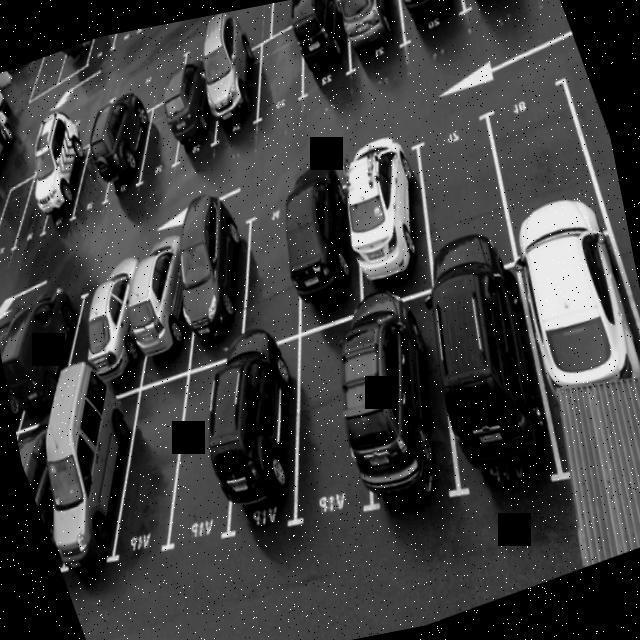car: (400, 261, 585, 504), (318, 278, 498, 522), (493, 219, 640, 471), (7, 362, 168, 578), (189, 334, 341, 550), (328, 144, 451, 307), (263, 161, 382, 319), (107, 220, 218, 378), (162, 210, 276, 355), (10, 396, 90, 568), (0, 274, 99, 406), (68, 252, 162, 376), (278, 0, 371, 109), (84, 96, 177, 204), (192, 41, 282, 148), (153, 62, 237, 166), (23, 129, 102, 234), (327, 0, 424, 83), (384, 0, 482, 56), (0, 295, 42, 425), (452, 0, 550, 25)
free: (250, 308, 412, 538), (71, 353, 238, 574), (130, 342, 284, 560), (466, 64, 614, 245), (396, 116, 527, 296), (208, 190, 331, 358), (30, 262, 134, 391), (118, 84, 204, 197), (0, 151, 78, 259), (240, 25, 323, 122), (60, 112, 133, 215), (0, 171, 52, 278)
